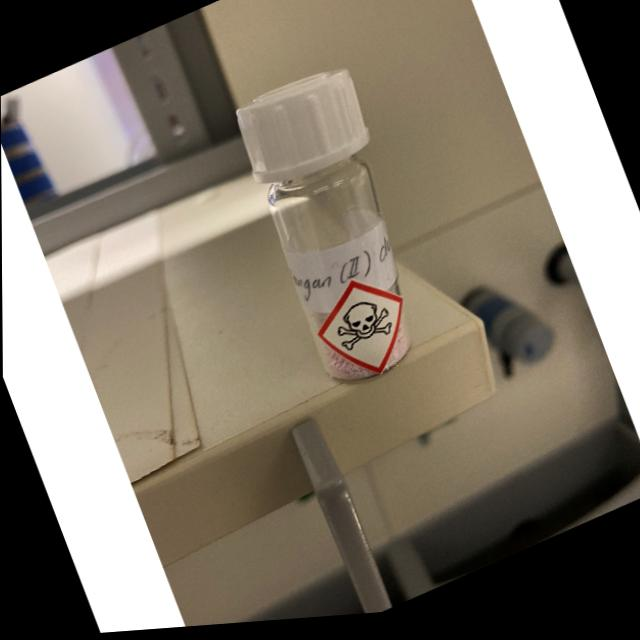acute toxicity: (329, 299, 396, 359)
